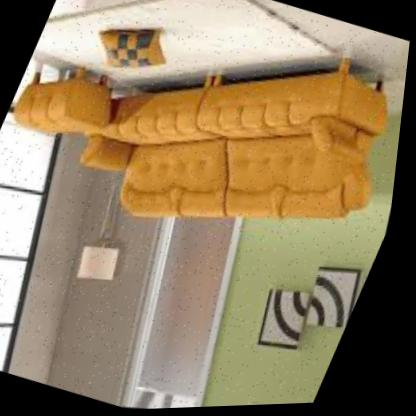Sofa: (0, 0, 416, 330)
